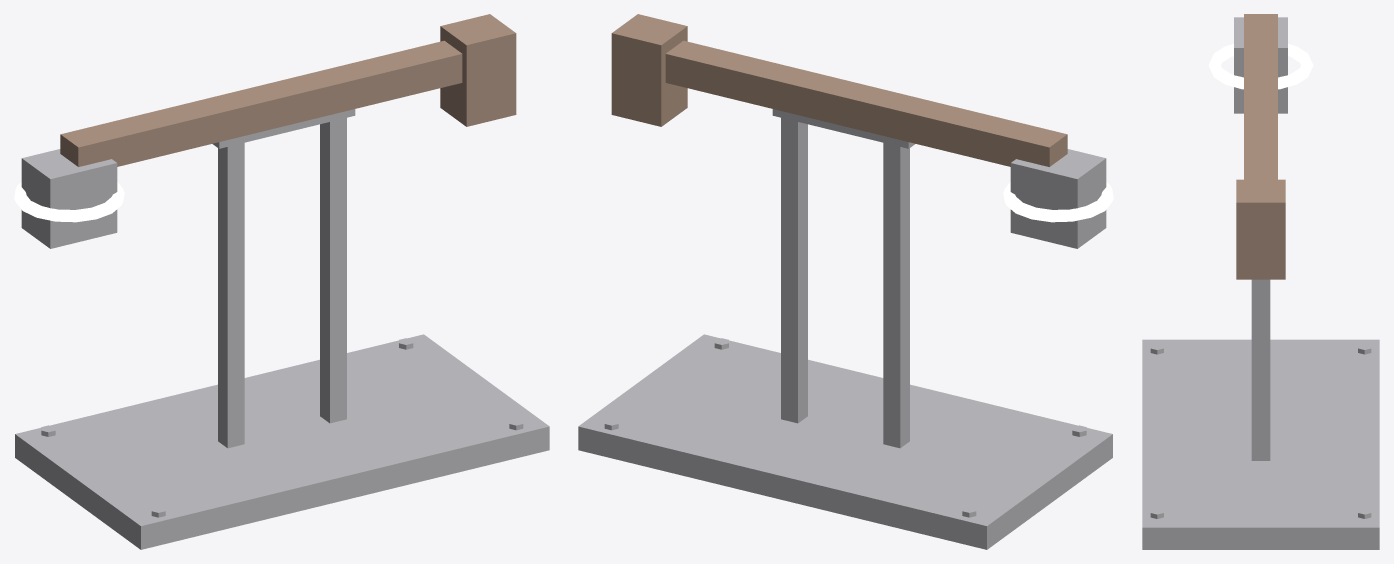
Rendered from pump_jack_uncommon.glb.
3 renders of one model, left to right at view 1: azimuth 30°, elevation 25°; view 2: azimuth 150°, elevation 25°; view 3: azimuth 270°, elevation 25°, orthographic. The views are drawn at different scales.
Visible parts, largest first — view 1: pump_jack, beam; view 2: pump_jack, beam; view 3: pump_jack, beam.
Boxes of the visible parts, x1,y1,x2,y2 form: pump_jack: (14,14,549,549); beam: (60,40,462,166); pump_jack: (578,14,1113,549); beam: (665,40,1067,166); pump_jack: (1142,17,1379,549); beam: (1244,14,1277,179).
Bounding box in the file's own units: 3.39 × 2.54 × 1.54.
